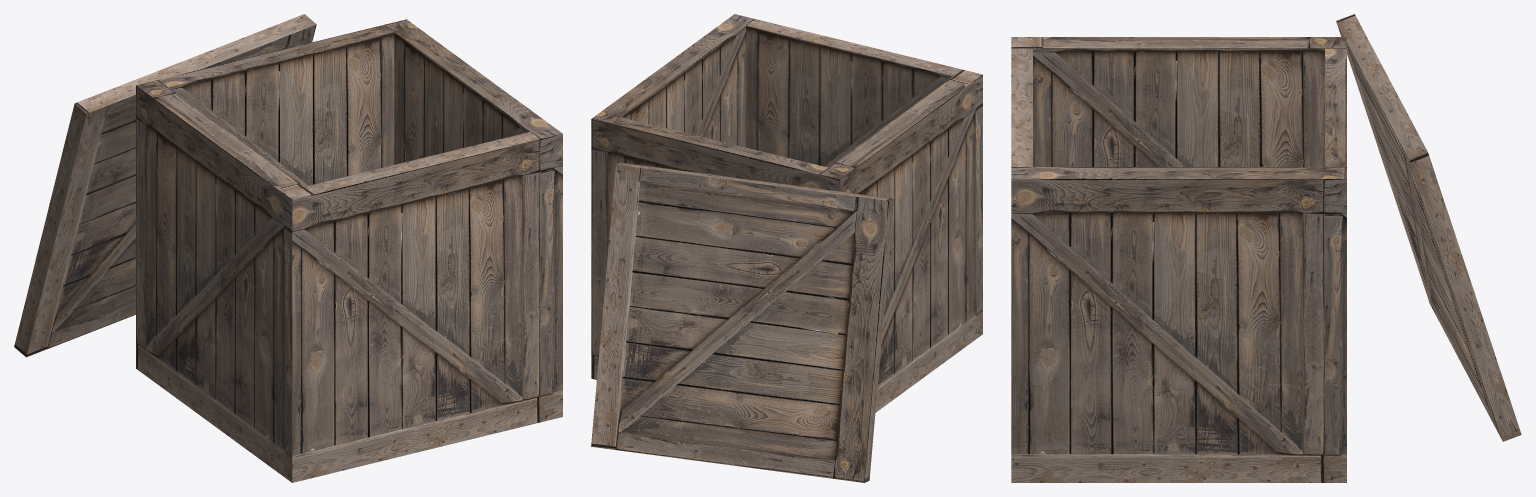
Rendered from cargo_opened.fbx.
3 renders of one model, left to right at view 1: azimuth 30°, elevation 25°; view 2: azimuth 150°, elevation 25°; view 3: azimuth 270°, elevation 25°, orthographic. The views are drawn at different scales.
Parts seen in each view (by area): view 1: Cube; view 2: Cube; view 3: Cube.
Part boxes in pixels (x1=…): Cube: x1=14, y1=14, x2=562, y2=482; Cube: x1=591, y1=14, x2=982, y2=482; Cube: x1=1011, y1=14, x2=1521, y2=482.
Bounding box in the file's own units: 2.55 × 2 × 3.04.
1 material, 1 textured.
